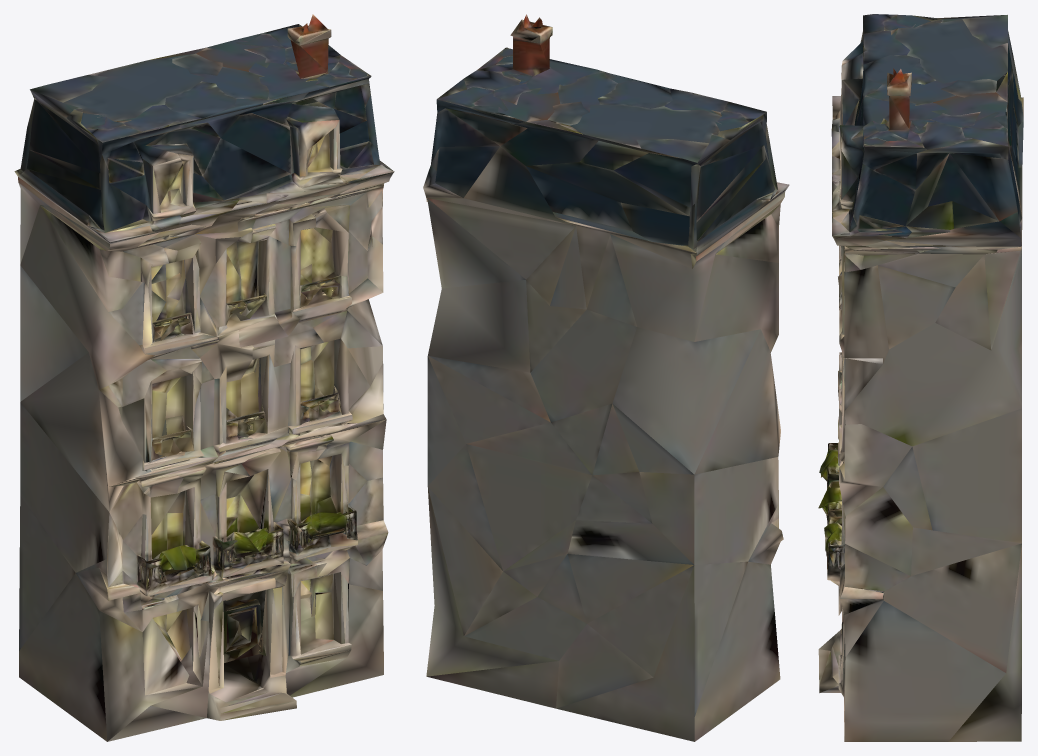
The model's file is getkong-haus15.glb.
The picture shows the model from 3 angles, left to right: view 1: azimuth 30°, elevation 25°; view 2: azimuth 150°, elevation 25°; view 3: azimuth 270°, elevation 25°; orthographic projection. The views are drawn at different scales.
Parts seen in each view (by area): view 1: output_unwrapped; view 2: output_unwrapped; view 3: output_unwrapped.
Boxes of the visible parts, x1,y1,x2,y2 form: output_unwrapped: (14,14,394,741); output_unwrapped: (423,14,789,741); output_unwrapped: (818,14,1023,741).
Size of the model in its own units: 0.8747 by 1.9 by 0.5431.
Materials: 1 (1 with a texture image).
